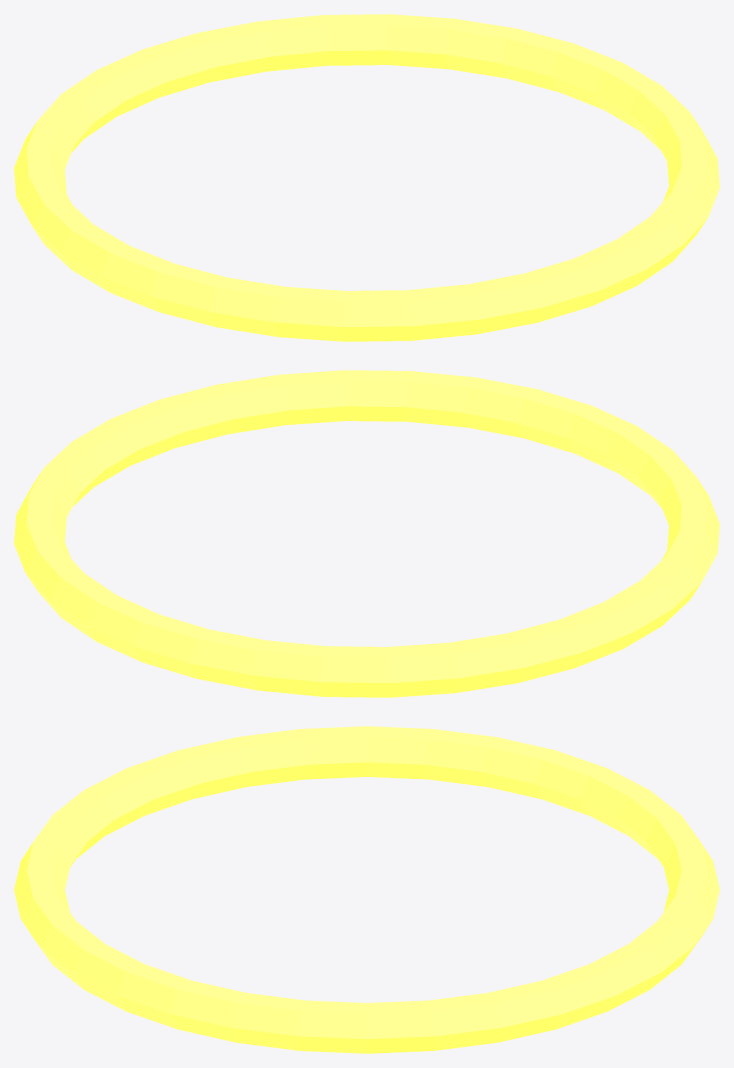
The model's file is znacznik.glb.
The picture shows the model from 3 angles, top to bottom: view 1: azimuth 30°, elevation 25°; view 2: azimuth 150°, elevation 25°; view 3: azimuth 270°, elevation 25°; orthographic projection.
Parts seen in each view (by area): view 1: znacznik; view 2: znacznik; view 3: znacznik.
Part boxes in pixels (<box>): znacznik: <box>14,14,719,341</box>; znacznik: <box>14,370,719,697</box>; znacznik: <box>14,726,719,1053</box>.
Size of the model in its own units: 1.94 by 0.1212 by 1.94.
